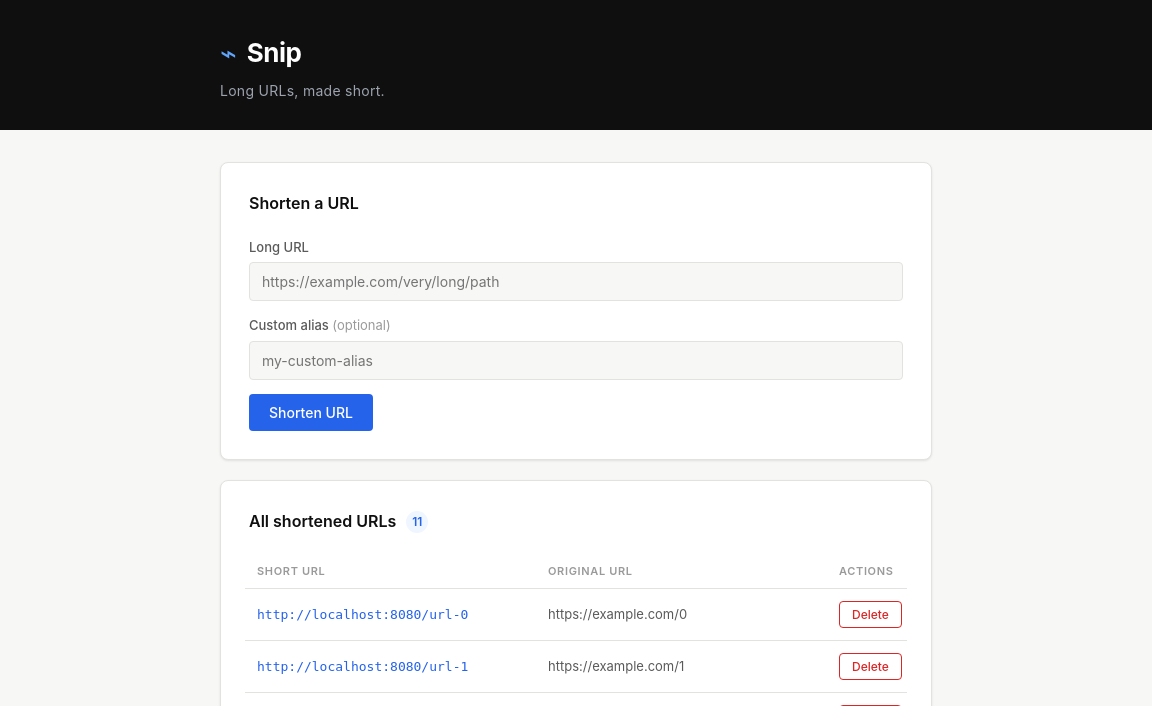
Test: URL pagination › refills the current page after deletion
Click the button with aria-label "Delete url-0": (870, 615) x1=839 y1=601 x2=902 y2=628
(page scrolled)
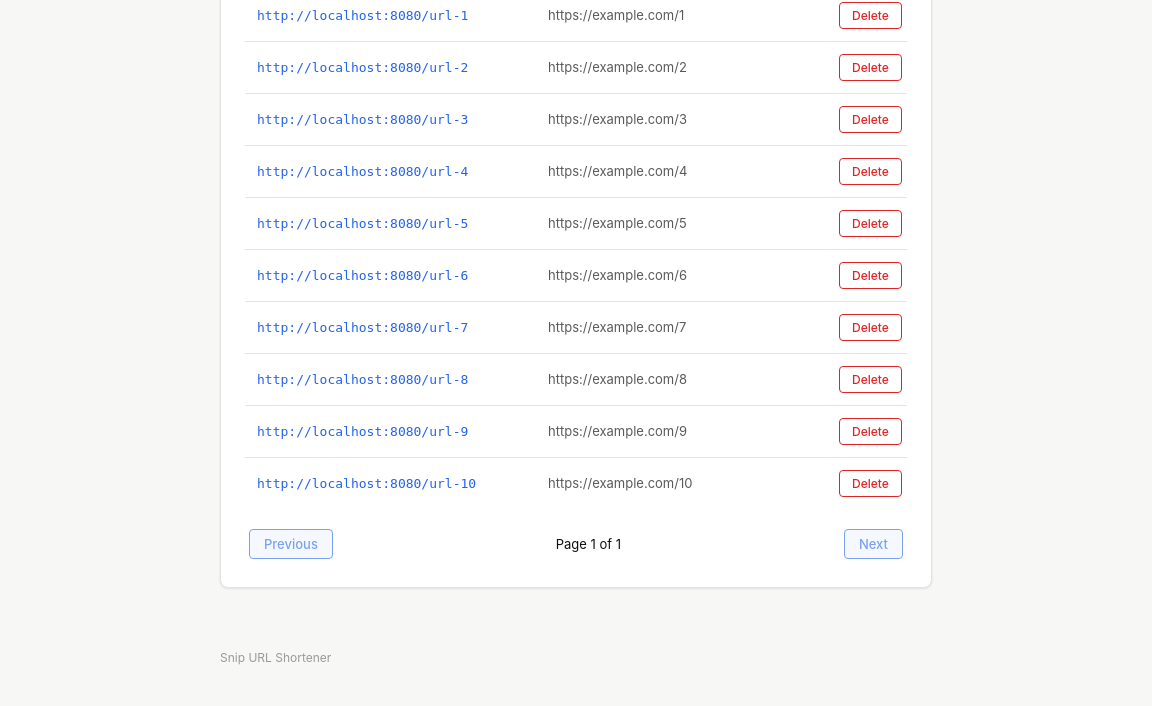
Result: the button with aria-label "Delete url-10" is shown at x1=839 y1=470 x2=902 y2=497
Result: the text "Page 1 of 1" is shown at x1=556 y1=534 x2=621 y2=555
